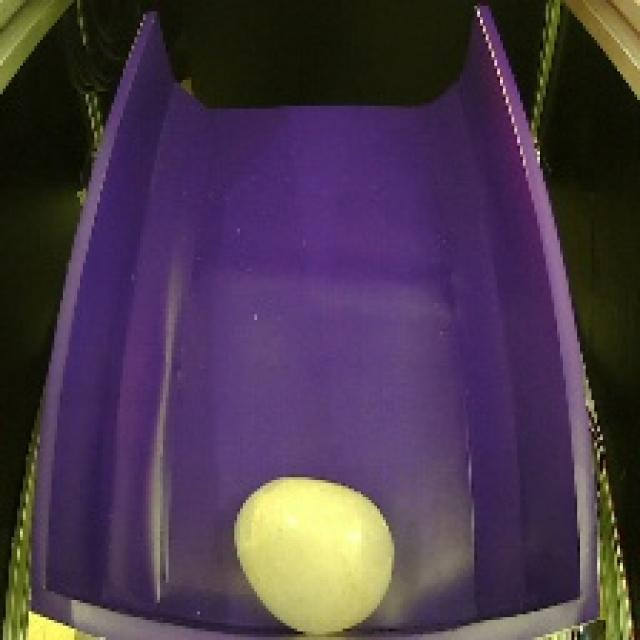cobbles: (226, 463, 402, 636)
